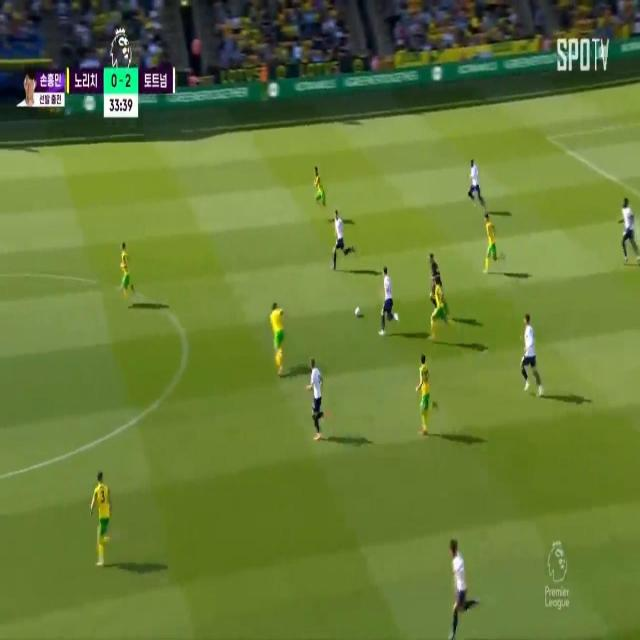ball: (352, 303, 366, 325)
player: (449, 536, 470, 637), (92, 467, 112, 569), (518, 311, 537, 401), (621, 190, 640, 268), (270, 304, 288, 373), (308, 361, 324, 433), (330, 208, 347, 272), (419, 352, 433, 428), (430, 273, 444, 347), (484, 210, 498, 282), (383, 265, 395, 333), (119, 242, 133, 298), (466, 150, 479, 200), (312, 160, 324, 213)
referee: (431, 250, 445, 301)
